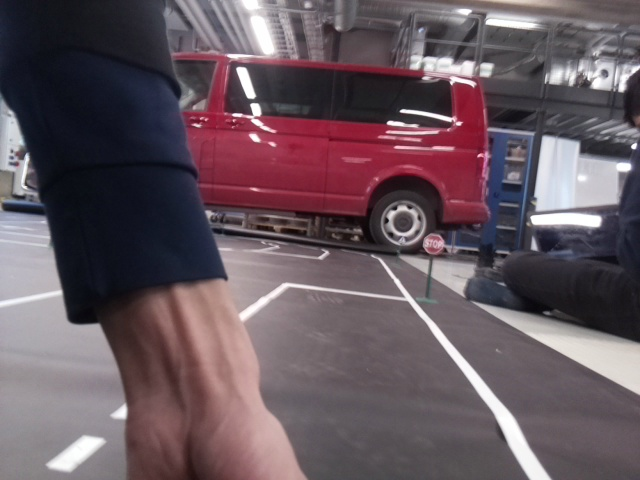Stop: (425, 231, 444, 254)
